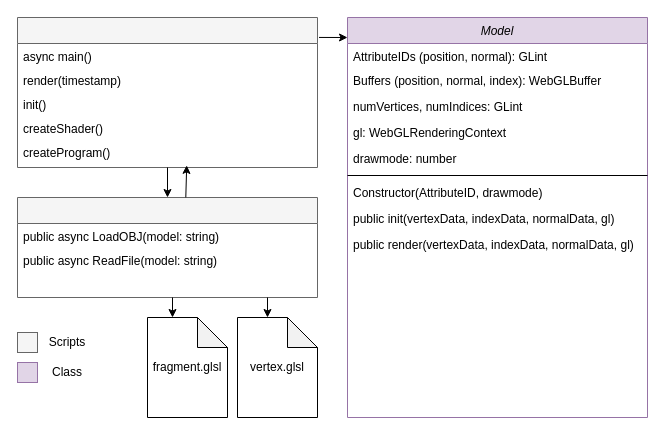
Some shapes in this 665 by 435 pixel diagram are drawn without their labels. The box of each missing label's shape, as (x1, y1, x2, y2) in pixels:
index.ts: (16, 16, 318, 168)
Loader.ts: (16, 196, 318, 298)
